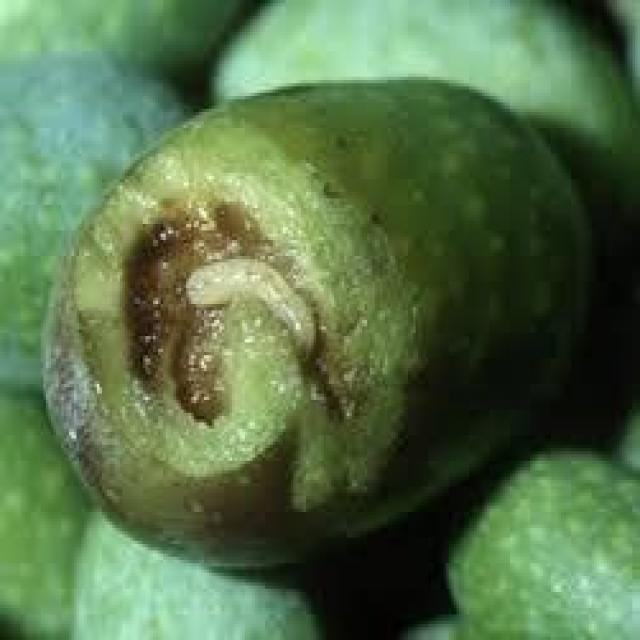Olive Fruit Fly: (43, 80, 589, 563)
